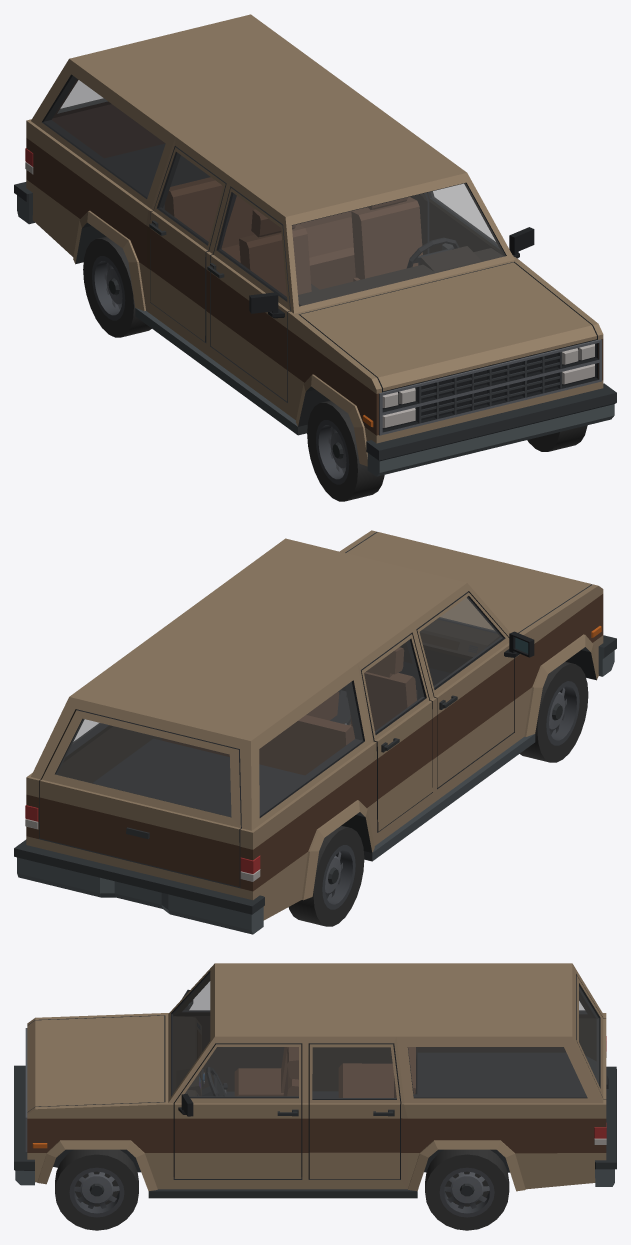
The model's file is SUV_02.glb.
The picture shows the model from 3 angles, top to bottom: view 1: azimuth 30°, elevation 25°; view 2: azimuth 150°, elevation 25°; view 3: azimuth 270°, elevation 25°; orthographic projection. The views are drawn at different scales.
Parts seen in each view (by area): view 1: SUV_02, WINDOWS.011, INTERIOR.017, DOOR_R1, DOOR_R2, WHEEL_1R.004, WHEEL_2R.004, WIN_DOOR_R1, DOOR B.004, WIN_DOOR_R2, DOOR_L1.001, WIN_DOOR_L1.001 (+1 smaller); view 2: SUV_02, DOOR B.004, WIN_B.002, INTERIOR.017, DOOR_R1, WINDOWS.011, DOOR_R2, WHEEL_2R.004, WHEEL_1R.004, WIN_DOOR_R1, WIN_DOOR_R2; view 3: SUV_02, DOOR_L1.001, WINDOWS.011, DOOR_L2, INTERIOR.017, WHEEL_2L.005, WHEEL_1L.004, WIN_DOOR_L1.001, WIN_DOOR_L2.001, DOOR_R1, DOOR_R2, DOOR B.004 (+2 smaller).
Part boxes in pixels (x1,y1,x2,y2): SUV_02: (14,14,616,476); WINDOWS.011: (44,76,505,306); INTERIOR.017: (164,177,503,306); DOOR_R1: (207,187,290,401); DOOR_R2: (149,146,226,342); WHEEL_1R.004: (307,400,384,501); WHEEL_2R.004: (83,236,151,337); WIN_DOOR_R1: (219,194,286,298); DOOR B.004: (51,79,165,158); WIN_DOOR_R2: (159,153,222,243); DOOR_L1.001: (427,184,534,258); WIN_DOOR_L1.001: (431,184,496,244); SUV_02: (14,530,616,934); DOOR B.004: (40,709,241,886); WIN_B.002: (56,719,230,816); INTERIOR.017: (162,619,500,775); DOOR_R1: (416,592,534,787); WINDOWS.011: (73,598,495,815); DOOR_R2: (361,633,432,831); WHEEL_2R.004: (288,825,364,926); WHEEL_1R.004: (520,661,588,762); WIN_DOOR_R1: (420,597,502,687); WIN_DOOR_R2: (364,640,423,732); SUV_02: (14,963,616,1198); DOOR_L1.001: (173,1043,302,1178); WINDOWS.011: (172,973,586,1097); DOOR_L2: (308,1043,401,1179); INTERIOR.017: (173,1016,415,1097); WHEEL_2L.005: (425,1149,509,1230); WHEEL_1L.004: (55,1149,138,1230); WIN_DOOR_L1.001: (185,1047,298,1096); WIN_DOOR_L2.001: (312,1047,396,1098); DOOR_R1: (174,977,284,1091); DOOR_R2: (312,1047,392,1091); DOOR B.004: (576,974,608,1099).
Bounding box in the file's own units: 2.39 × 1.8 × 5.34.
Materials: 2 (2 with a texture image).
